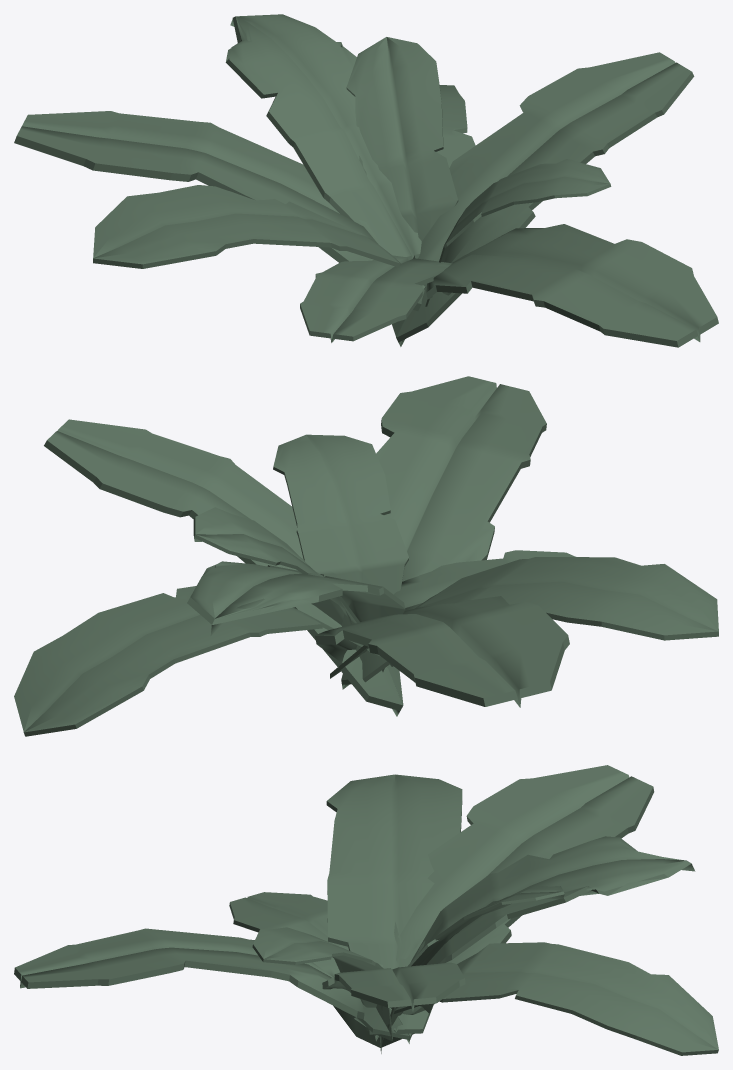
The model's file is Plant 2.fbx.
The picture shows the model from 3 angles, top to bottom: view 1: azimuth 30°, elevation 25°; view 2: azimuth 150°, elevation 25°; view 3: azimuth 270°, elevation 25°; orthographic projection. The views are drawn at different scales.
Visible parts, largest first — view 1: Plant_2; view 2: Plant_2; view 3: Plant_2.
Part boxes in pixels (<box>): Plant_2: <box>14,14,718,347</box>; Plant_2: <box>14,376,718,736</box>; Plant_2: <box>14,765,718,1055</box>.
Bounding box in the file's own units: 0.8436 × 0.2951 × 0.9324.
